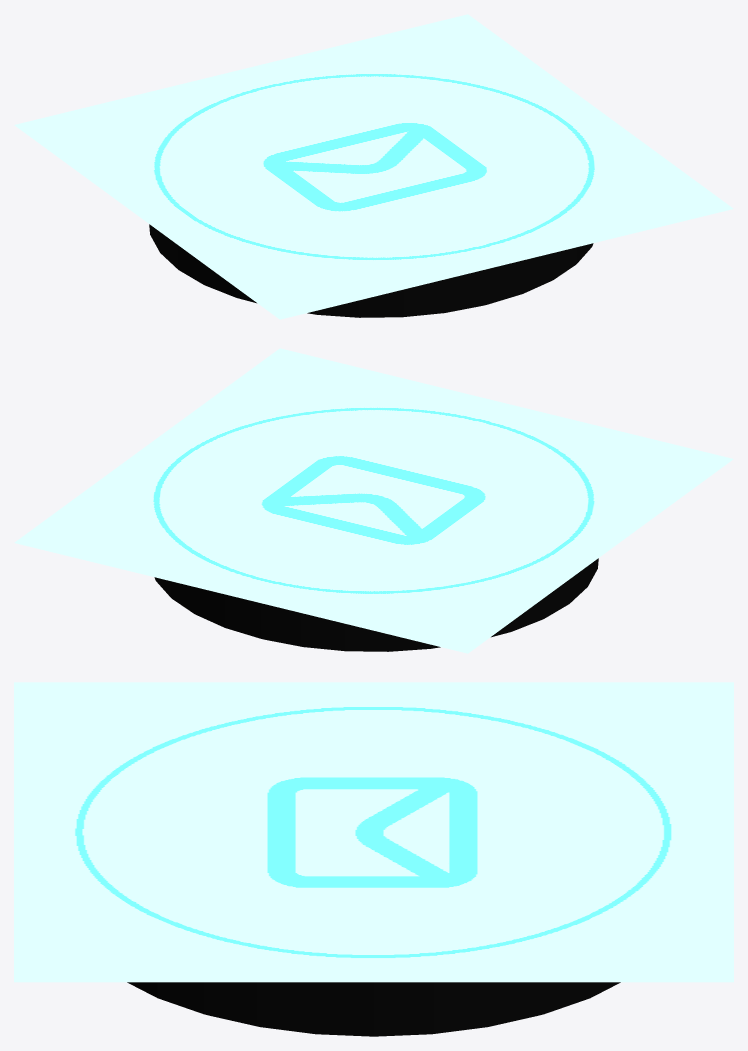
File: emailicon.glb
3 renders of one model, top to bottom at view 1: azimuth 30°, elevation 25°; view 2: azimuth 150°, elevation 25°; view 3: azimuth 270°, elevation 25°, orthographic. The views are drawn at different scales.
Parts seen in each view (by area): view 1: ARbusinesscardicons-06, Cylinder; view 2: ARbusinesscardicons-06, Cylinder; view 3: ARbusinesscardicons-06, Cylinder.
Part boxes in pixels (bbox=[...]): ARbusinesscardicons-06: bbox=[14, 14, 733, 319]; Cylinder: bbox=[149, 224, 593, 317]; ARbusinesscardicons-06: bbox=[14, 348, 733, 653]; Cylinder: bbox=[154, 558, 598, 651]; ARbusinesscardicons-06: bbox=[14, 682, 733, 982]; Cylinder: bbox=[127, 982, 620, 1036].
Bounding box in the file's own units: 2.32 × 0.296 × 2.36.
Materials: 2 (1 with a texture image).
